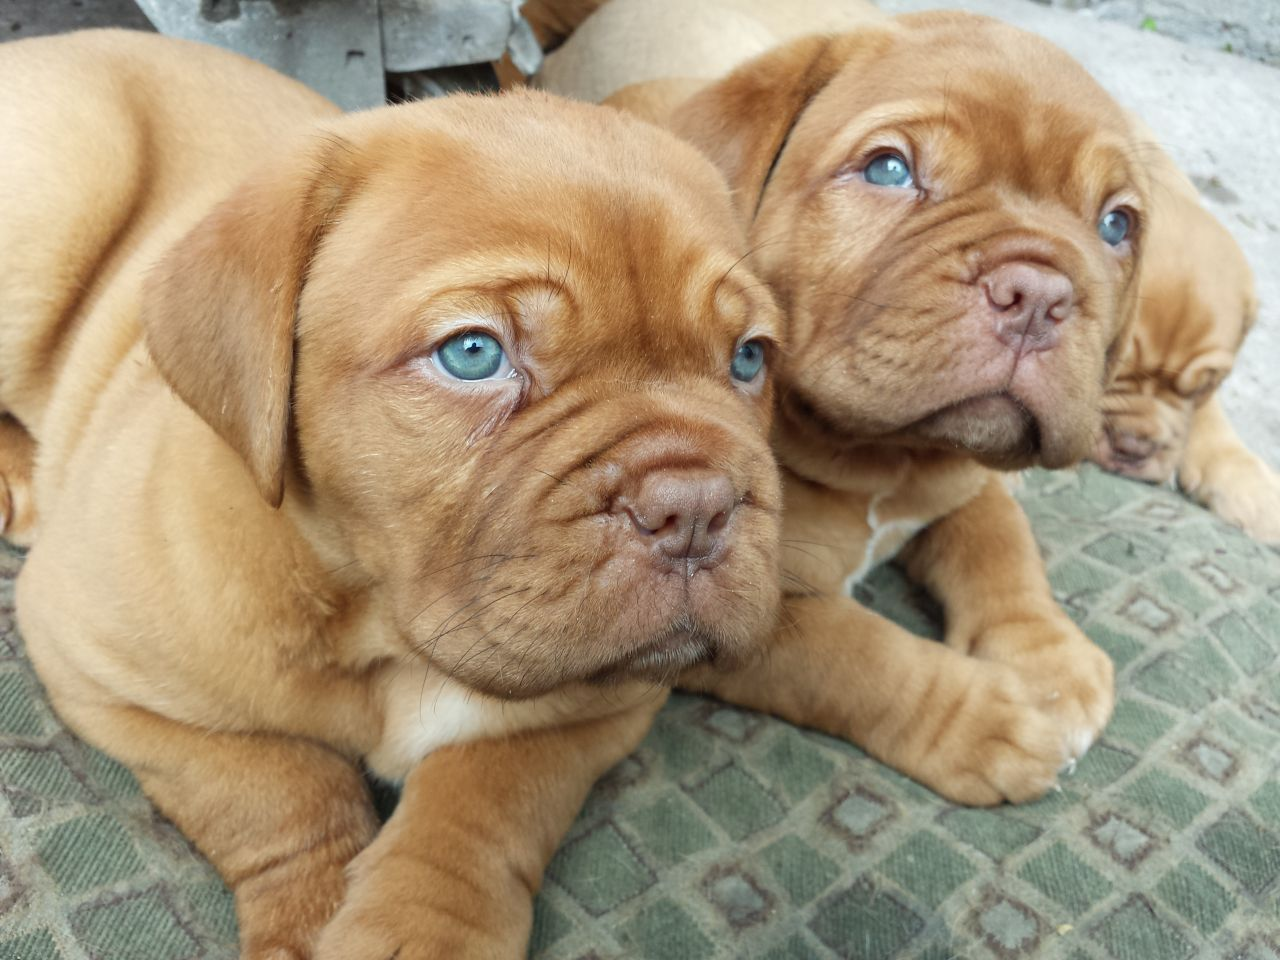dogue_de_bordeaux: (0, 27, 790, 960), (602, 10, 1153, 810), (1075, 131, 1278, 547)
